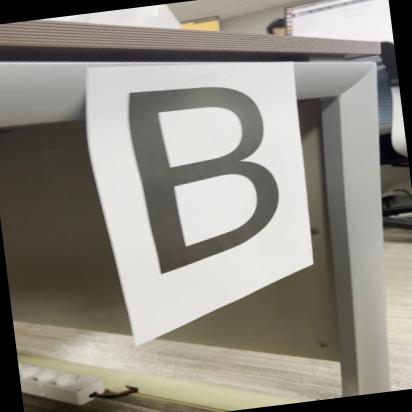seat: (106, 61, 304, 290)
